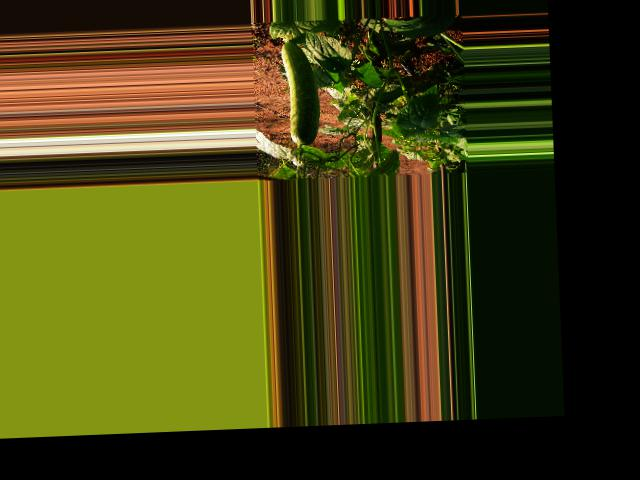cucumber: (280, 40, 320, 145)
